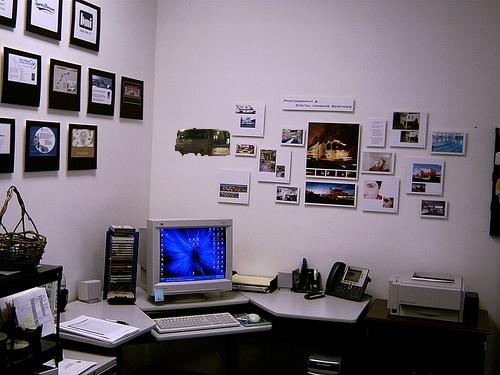tampered: (176, 129, 230, 156)
